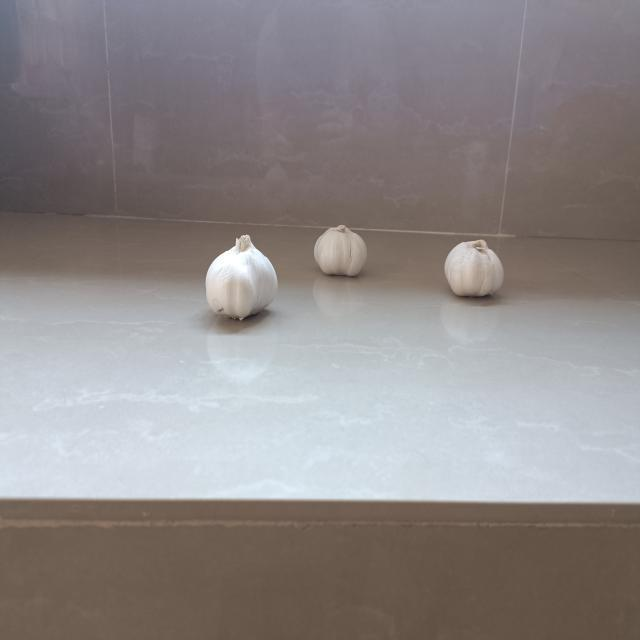garlic: (201, 230, 280, 325), (443, 235, 508, 300), (308, 220, 370, 282)
